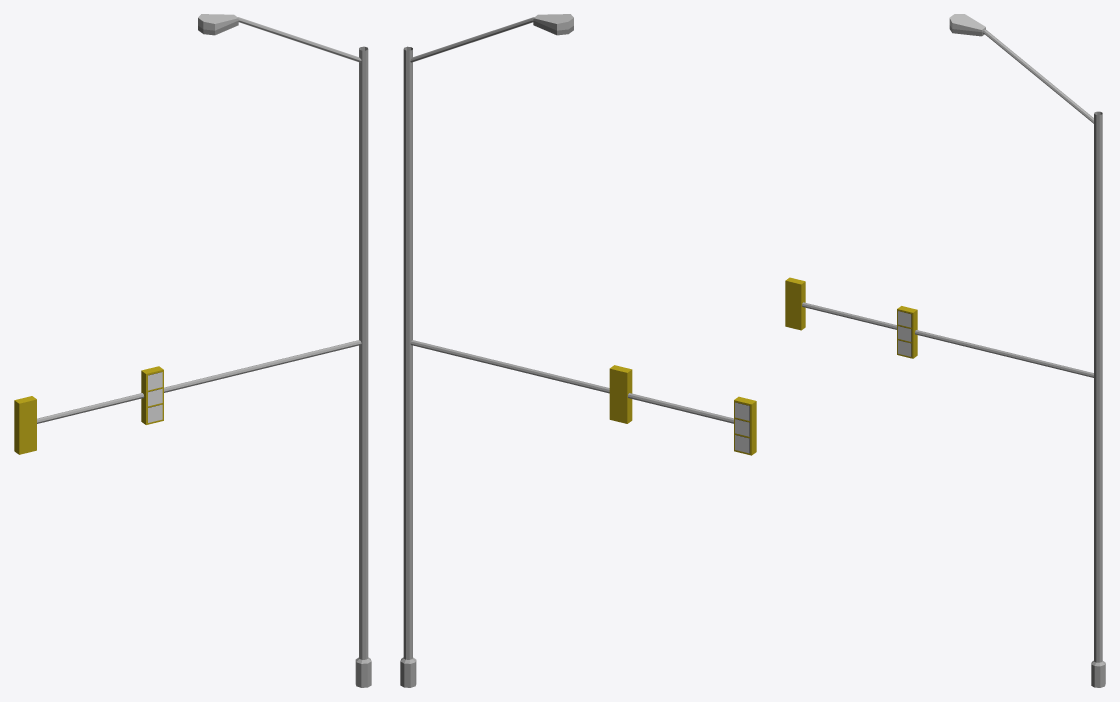
File: Pole_traffic.fbx
3 renders of one model, left to right at view 1: azimuth 30°, elevation 25°; view 2: azimuth 150°, elevation 25°; view 3: azimuth 330°, elevation 25°, orthographic. The views are drawn at different scales.
Parts seen in each view (by area): view 1: Pole, Pole_traffic2, Pole_traffic; view 2: Pole, Pole_traffic, Pole_traffic2; view 3: Pole, Pole_traffic2, Pole_traffic.
Part boxes in pixels (<box>): Pole: <box>37,14,371,687</box>; Pole_traffic2: <box>14,396,36,454</box>; Pole_traffic: <box>141,366,163,424</box>; Pole: <box>400,14,733,687</box>; Pole_traffic: <box>609,365,632,423</box>; Pole_traffic2: <box>734,396,756,455</box>; Pole: <box>802,14,1105,687</box>; Pole_traffic2: <box>785,277,805,330</box>; Pole_traffic: <box>897,306,917,358</box>.
Bounding box in the file's own units: 4.51 × 8.58 × 0.3038.
